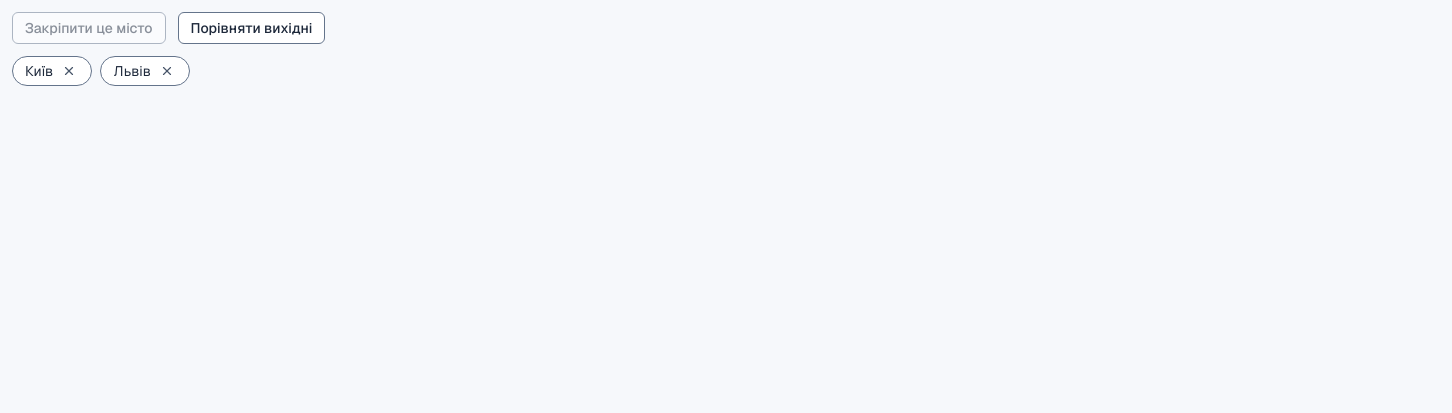
Test: CompareSection — the 'Compare weekend' toggle switches to the table (FR-COMPARE-02) › toggling OFF again returns to the normal view and keeps the pins intact
This screenshot has width=1452, height=413.
Click the switch labelled "Порівняти вихідні": (252, 28) x1=178 y1=12 x2=326 y2=44
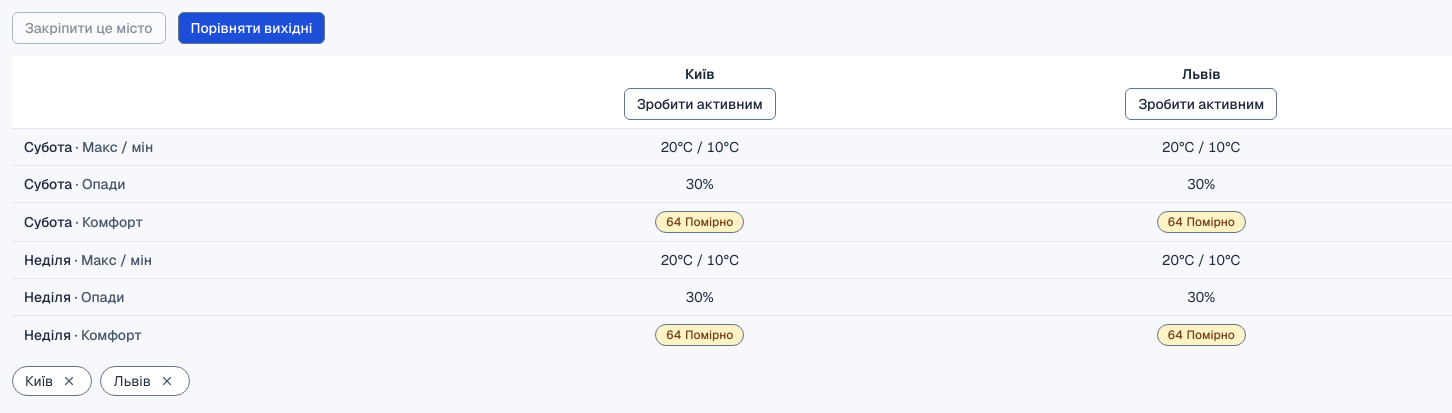
Click the switch labelled "Порівняти вихідні": (252, 28) x1=178 y1=12 x2=326 y2=44
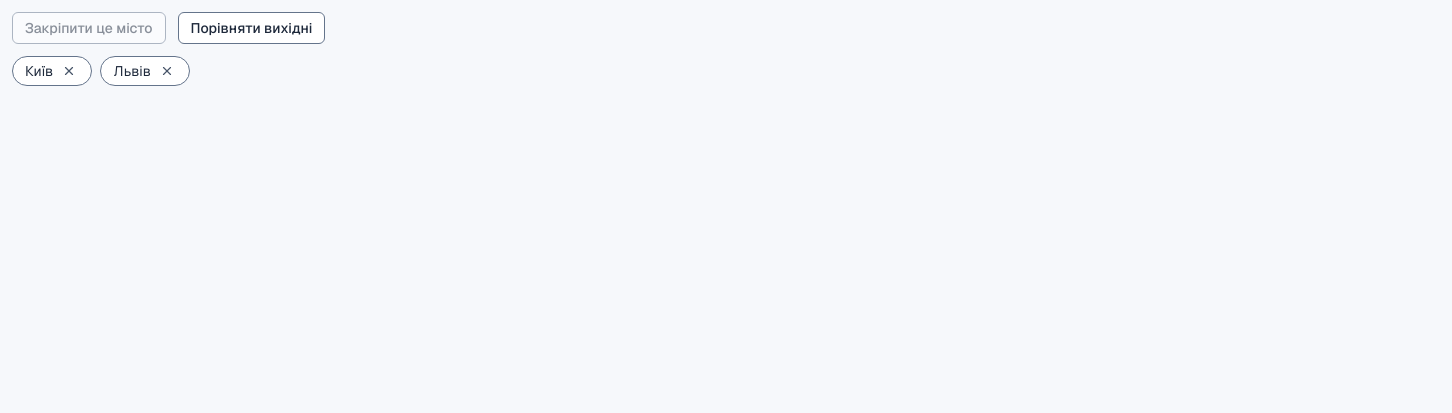
Expected: the text "Київ" is shown, x1=25 y1=61 x2=53 y2=81
Expected: the table is gone
